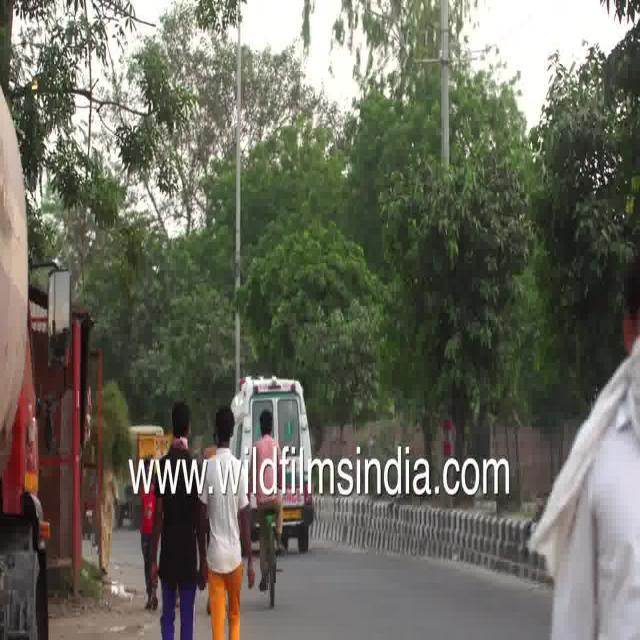ambulance: (274, 370, 332, 548)
